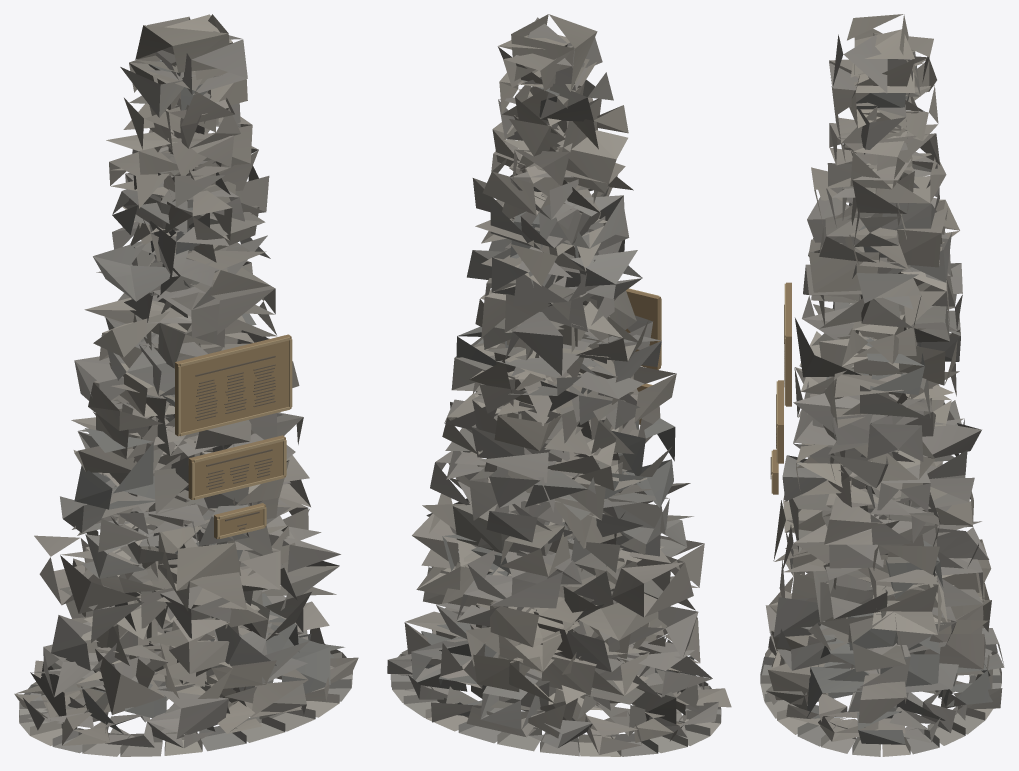
The picture shows the model from 3 angles, left to right: view 1: azimuth 30°, elevation 25°; view 2: azimuth 150°, elevation 25°; view 3: azimuth 270°, elevation 25°; orthographic projection. The views are drawn at different scales.
Visible parts, largest first — view 1: war_memorial_geometry; view 2: war_memorial_geometry; view 3: war_memorial_geometry.
Part boxes in pixels (x1=…): war_memorial_geometry: x1=14, y1=14, x2=358, y2=756; war_memorial_geometry: x1=387, y1=14, x2=731, y2=756; war_memorial_geometry: x1=760, y1=14, x2=1004, y2=756.
Bounding box in the file's own units: 4.44 × 9.14 × 3.09.
